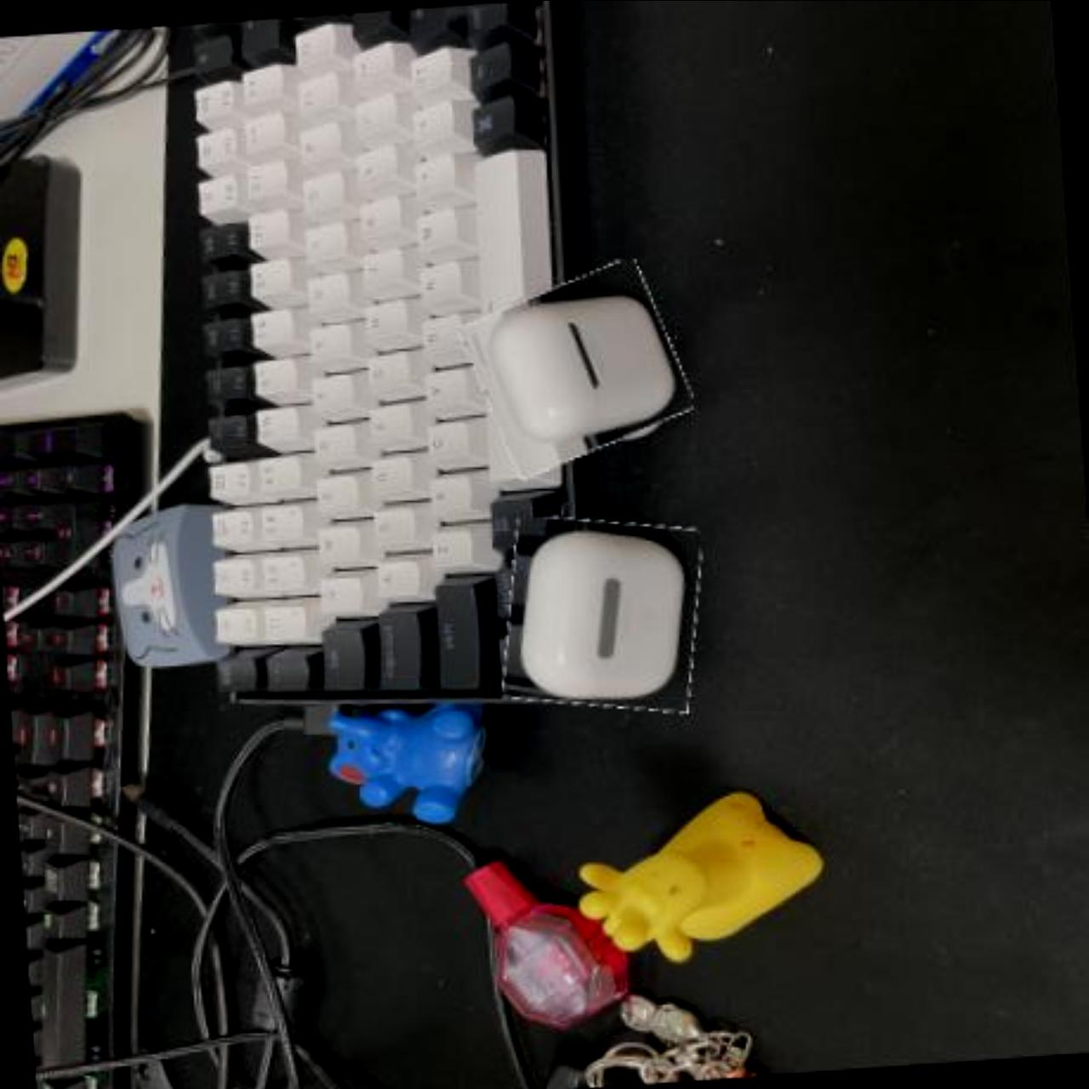AirPods: (467, 267, 689, 470), (499, 510, 709, 717)
